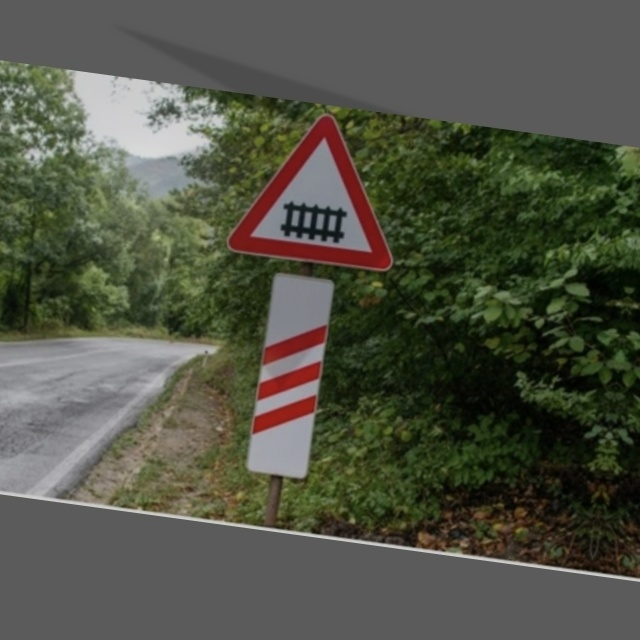Guarded_Level_Crossing: (227, 105, 413, 272)
